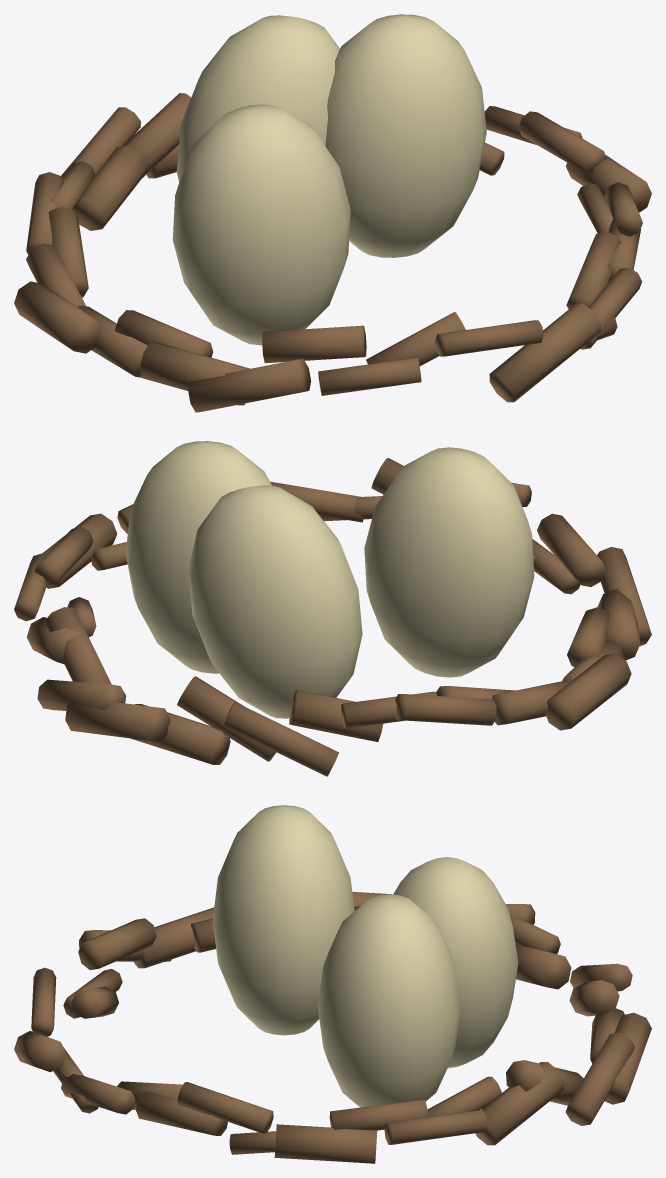
File: sample_eggs.glb
3 views of the same model, one above another, from view 1: azimuth 30°, elevation 25°; view 2: azimuth 150°, elevation 25°; view 3: azimuth 270°, elevation 25° (orthographic). The views are drawn at different scales.
Parts seen in each view (by area): view 1: Nest branch; view 2: Nest branch; view 3: Nest branch.
Boxes of the visible parts, x1,y1,x2,y2 form: Nest branch: (14, 14, 651, 412); Nest branch: (14, 441, 651, 776); Nest branch: (14, 805, 651, 1163).
Size of the model in its own units: 1.29 by 0.4994 by 1.33.
